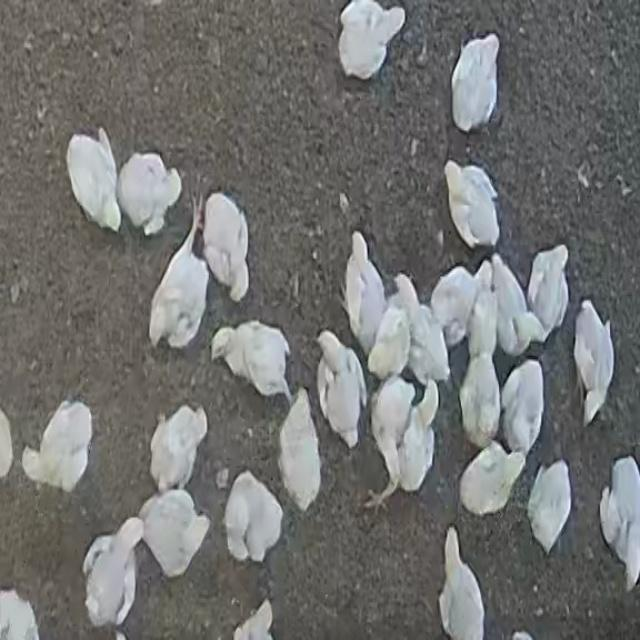chicken: (149, 198, 212, 350), (367, 372, 439, 505), (21, 398, 94, 494), (82, 518, 144, 630), (137, 488, 212, 579), (212, 322, 294, 402), (314, 332, 370, 449), (394, 275, 450, 386), (67, 127, 126, 232), (201, 190, 252, 304), (223, 471, 284, 565), (343, 232, 388, 356), (118, 150, 182, 236), (148, 403, 209, 493), (457, 442, 528, 519), (277, 390, 322, 511), (439, 528, 487, 640), (337, 2, 405, 81), (573, 302, 616, 424), (487, 256, 537, 360), (601, 455, 640, 587), (451, 33, 501, 132), (446, 162, 500, 250), (525, 245, 570, 342), (527, 460, 572, 556), (500, 360, 544, 458), (430, 263, 479, 351), (458, 352, 502, 450), (366, 299, 412, 383), (470, 259, 501, 360), (0, 589, 42, 640), (232, 598, 274, 638)
